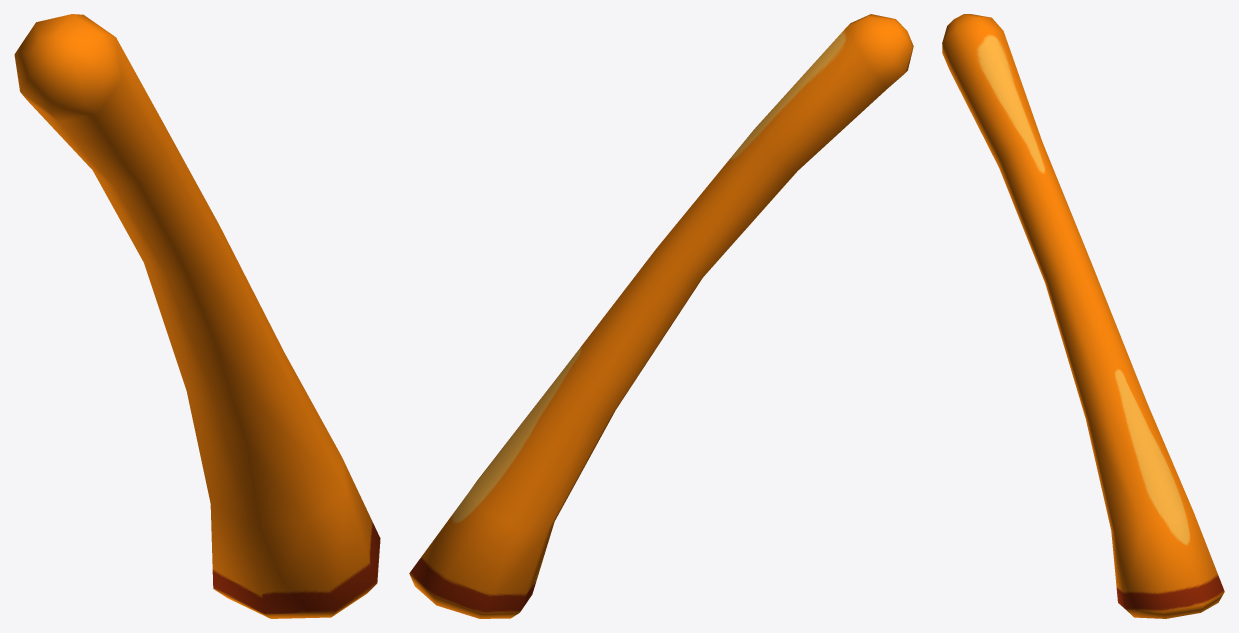
Rendered from Spider_002_LLeg_001_L.fbx.
3 views of the same model, side by side, from view 1: azimuth 30°, elevation 25°; view 2: azimuth 150°, elevation 25°; view 3: azimuth 270°, elevation 25° (orthographic). The views are drawn at different scales.
Parts seen in each view (by area): view 1: LowerLeg_001_L; view 2: LowerLeg_001_L; view 3: LowerLeg_001_L.
Boxes of the visible parts, x1,y1,x2,y2 form: LowerLeg_001_L: (14,14,380,618); LowerLeg_001_L: (409,14,913,618); LowerLeg_001_L: (942,14,1224,618).
Size of the model in its own units: 30.47 by 44.9 by 23.9.
